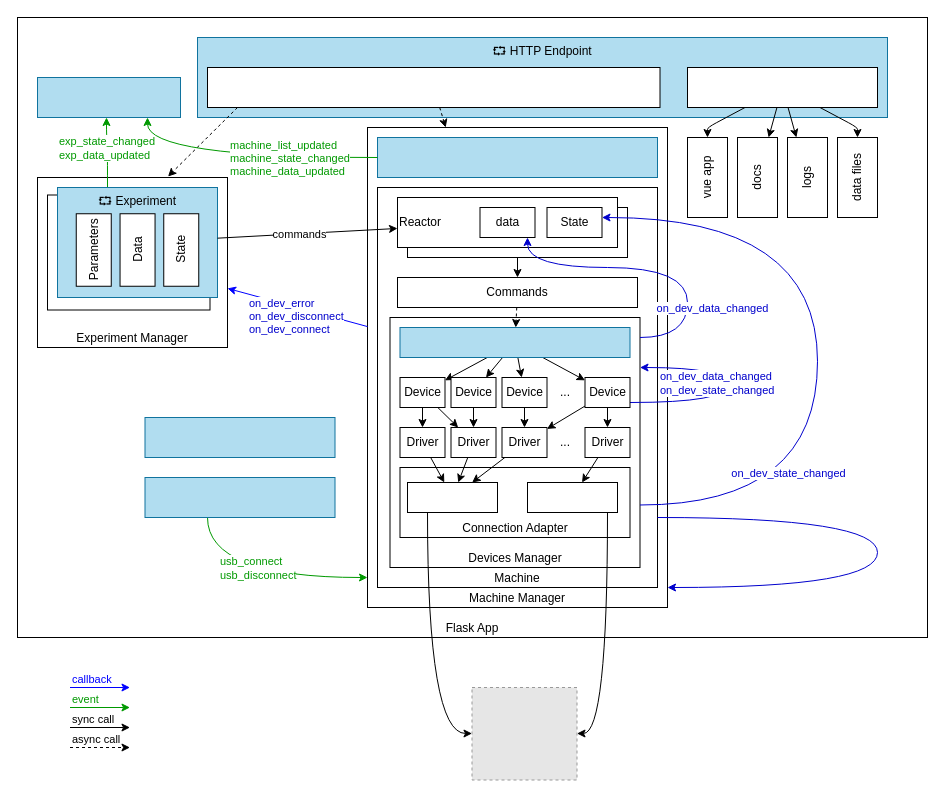
Some shapes in this 945 by 798 pixel diagram are drawn without their labels. Grey dashed boxes stand in for pictures. The shapes that lost their labels are listed below. From the top down, each one's centre as x and y in pixels, then its label:
the point at 108,97: ⮔ WebSocket Endpoint
the point at 433,87: REST API Endpoint
the point at 782,87: Static Endpoint
the point at 517,157: ⮔ State Monitor
the point at 514,342: ⮔ Command Executor
the point at 239,437: ⮔ Event Manager
the point at 239,497: ⮔ USB Monitor
the point at 452,497: Hardware Port (I2C)
the point at 572,497: Hardware Port (SPI)
